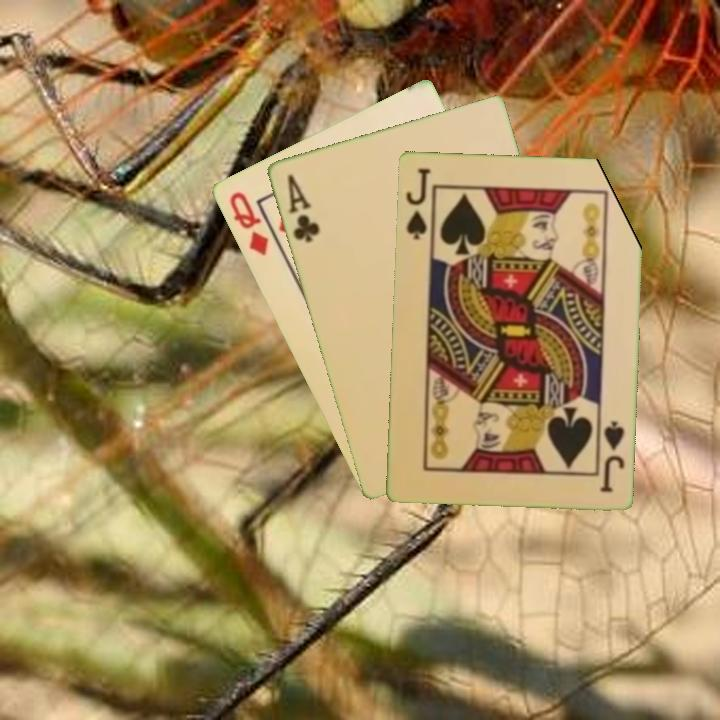Ac: (283, 170, 322, 245)
Js: (595, 415, 627, 495), (402, 164, 433, 242)
Qd: (225, 187, 271, 259)
